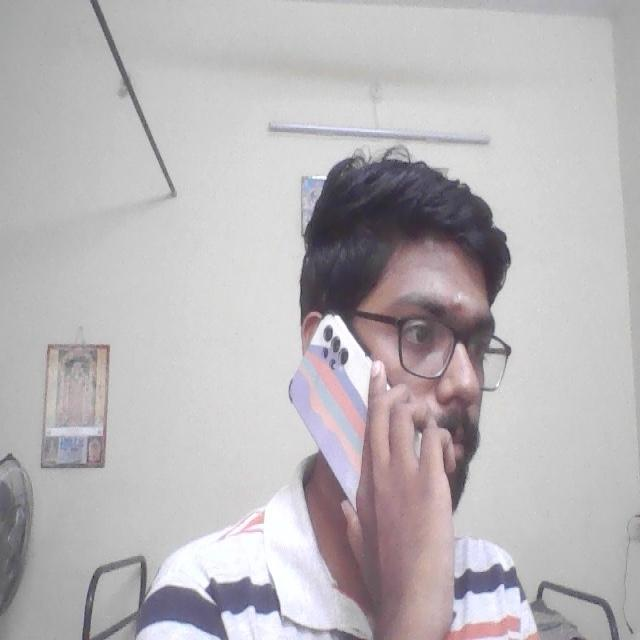Mobile: (282, 301, 384, 505)
